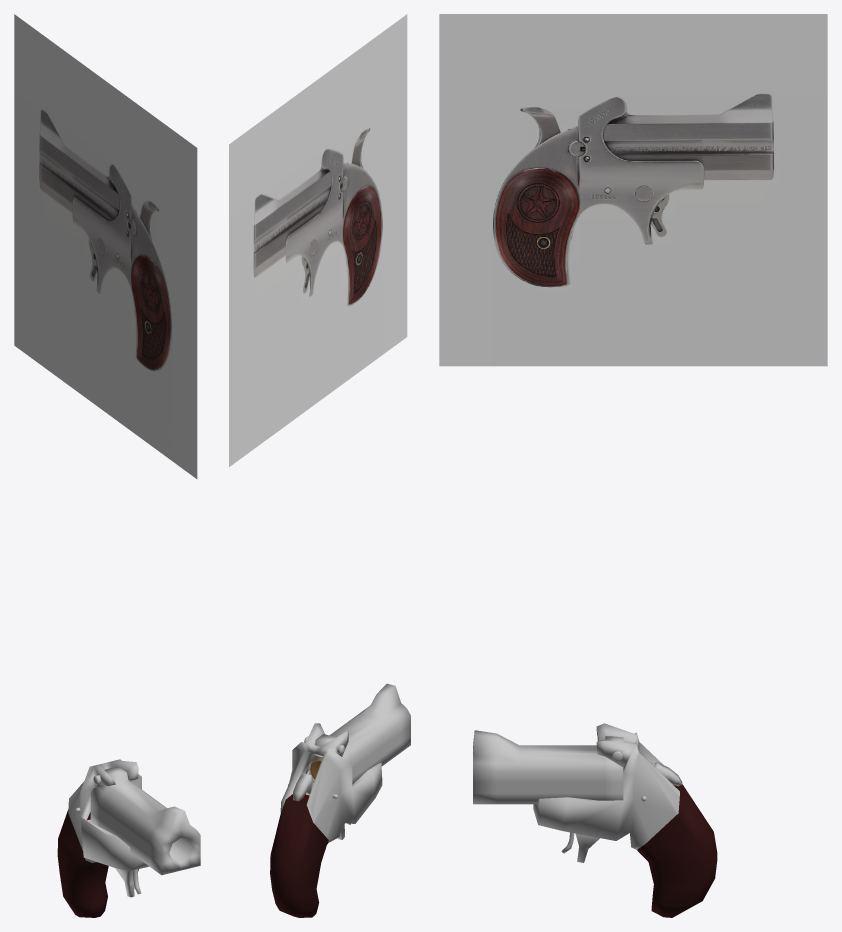
Rendered from Derringer.glb.
The picture shows the model from 3 angles, left to right: view 1: azimuth 30°, elevation 25°; view 2: azimuth 150°, elevation 25°; view 3: azimuth 270°, elevation 25°; orthographic projection. The views are drawn at different scales.
Visible parts, largest first — view 1: Derringer, Cube, Cube.001; view 2: Derringer, Cube, Cube.001, Cube.003; view 3: Derringer, Cube, Cube.001.
Boxes of the visible parts, x1,y1,x2,y2 form: Derringer: (14, 14, 197, 478); Cube: (57, 759, 148, 917); Cube.001: (90, 766, 200, 875); Derringer: (229, 14, 407, 466); Cube: (270, 723, 382, 917); Cube.001: (305, 683, 410, 784); Cube.003: (293, 771, 313, 801); Derringer: (439, 14, 827, 366); Cube: (533, 723, 717, 917); Cube.001: (473, 730, 623, 804).
Size of the model in its own units: 1.31 by 17.16 by 6.74.
5 materials, 1 textured.
